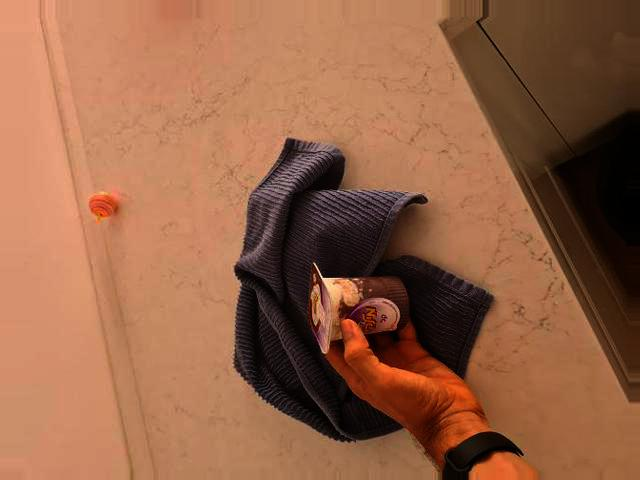milky: (303, 264, 410, 348)
